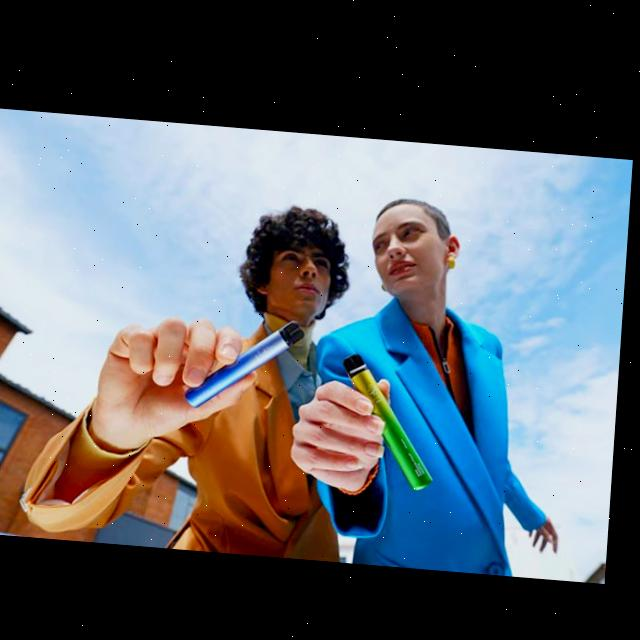vape: (340, 345, 445, 486), (189, 308, 311, 412)
